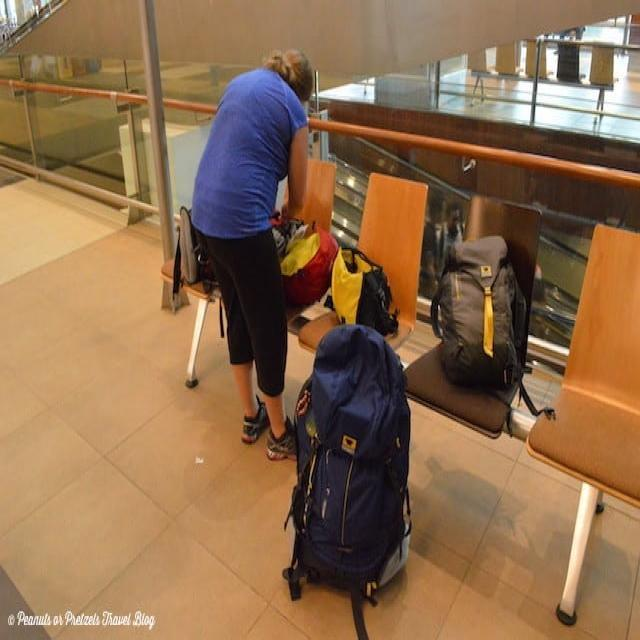Backpacks: (284, 317, 419, 602), (432, 226, 532, 402), (328, 236, 400, 334)
